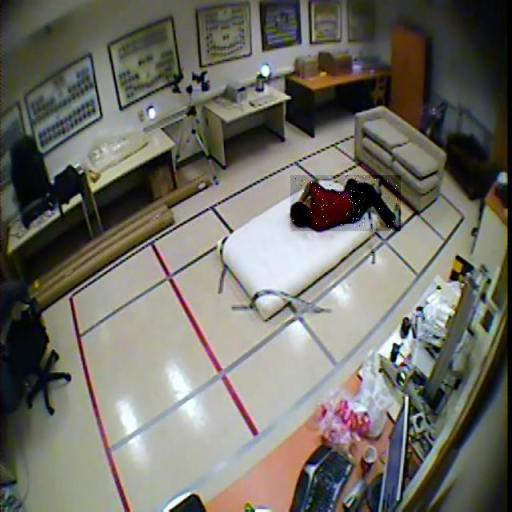Fall: (290, 175, 401, 231)
